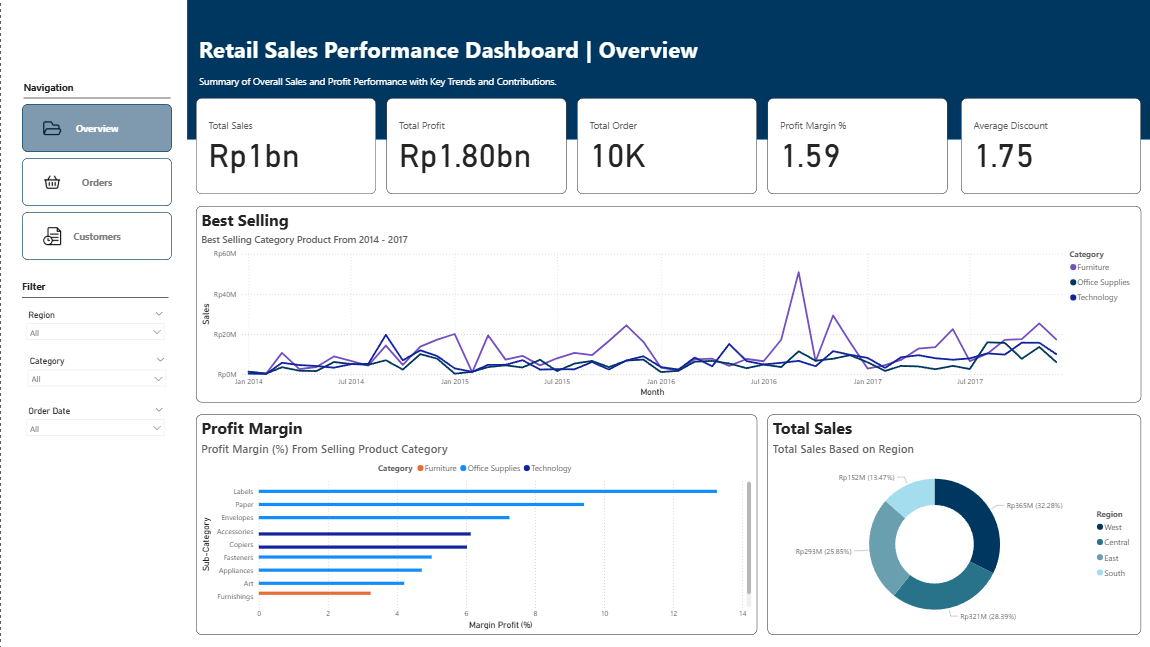

This screenshot's page, from the dashboard's own definition file:
{"tool":"powerbi","page":{"name":"Overview","canvas":[1920,1080],"ordinal":0},"visuals":[{"type":"shape","box":[0,0,310,1080],"z":0},{"type":"textbox","box":[33.3,131.1,100,100],"z":0,"group":"g4"},{"type":"shape","box":[38.3,115,245,100],"z":1000,"group":"g4"},{"type":"group","id":"g1","title":"Group 1","box":[34.4,174.4,250,80],"z":1000},{"type":"image","box":[64.4,194.4,40,40],"z":1000,"group":"g1"},{"type":"actionButton","box":[34.4,264.4,250,80],"z":1000,"group":"g2"},{"type":"actionButton","box":[34.4,354.4,250,80],"z":1000,"group":"g3"},{"type":"group","id":"g2","title":"Group 2","box":[34.4,264.4,250,80],"z":2000},{"type":"actionButton","box":[34.4,174.4,250,80],"z":3000,"group":"g1"},{"type":"image","box":[64.4,284.4,40,40],"z":3000,"group":"g2"},{"type":"group","id":"g3","title":"Group 3","box":[34.4,354.4,250,80],"z":3000},{"type":"image","box":[64.4,374.4,40,40],"z":3002,"group":"g3"},{"type":"slicer","fields":{"Values":["superstore_cleaned.Region"]},"box":[33.3,512.2,250,65.6],"z":4000},{"type":"slicer","fields":{"Values":["superstore_cleaned.Category"]},"box":[34.4,590,250,64.4],"z":5000},{"type":"group","id":"g4","title":"Group 4","box":[33.3,115,250,116.1],"z":6000},{"type":"textbox","box":[31.1,461.7,100,100],"z":6000,"group":"g5"},{"type":"group","id":"g5","title":"Group 5","box":[31.1,447.8,248.9,114.4],"z":7000},{"type":"shape","box":[36.1,447.8,244.4,100],"z":7000,"group":"g5"},{"type":"slicer","fields":{"Values":["superstore_cleaned.Order Date.Variation.Date Hierarchy.Year"]},"box":[33.3,673.3,250,64.4],"z":8000},{"type":"shape","box":[310,0,1610,234.3],"z":9000},{"type":"textbox","box":[326,52,1202,100],"z":10000},{"type":"cardVisual","fields":{"Data":["superstore_cleaned.Total Sales"]},"box":[325,165,300,160],"z":11000},{"type":"cardVisual","fields":{"Data":["superstore_cleaned.Total Profit"]},"box":[642.5,165,300,160],"z":12000},{"type":"cardVisual","fields":{"Data":["superstore_cleaned.Total Order"]},"box":[960,165,300,160],"z":13000},{"type":"cardVisual","fields":{"Data":["superstore_cleaned.Profit Margin %"]},"box":[1277.5,165,300,160],"z":14000},{"type":"cardVisual","fields":{"Data":["superstore_cleaned.Average Discount"]},"box":[1600,165,300,160],"z":15000},{"type":"lineChart","title":"Best Selling","fields":{"Y":["superstore_cleaned.Total Sales"],"Category":["superstore_cleaned.Order Date.Variation.Date Hierarchy.Year","superstore_cleaned.Order Date.Variation.Date Hierarchy.Month"],"Series":["superstore_cleaned.Category"]},"box":[325,345,1575,327.5],"z":16000},{"type":"donutChart","title":"Total Sales","fields":{"Category":["superstore_cleaned.Region"],"Y":["superstore_cleaned.Total Sales"]},"box":[1277.5,692.5,622.5,367.5],"z":17000},{"type":"clusteredBarChart","title":"Profit Margin","fields":{"Y":["superstore_cleaned.Profit Margin %"],"Series":["superstore_cleaned.Category"],"Category":["superstore_cleaned.Sub-Category"]},"box":[325,692.5,935,367.5],"z":18000}]}

Visuals, with their boxes on the page's 1920x1080 design canvas (x1, y1, x2, y2). These are canvas units, not pixel positions in the 1150x647 screenshot, which may show the page scaled, cropped or inside an application window:
shape: <bbox>0, 0, 310, 1080</bbox>
textbox: <bbox>33, 131, 133, 231</bbox>
shape: <bbox>38, 115, 283, 215</bbox>
"Group 1" group: <bbox>34, 174, 284, 254</bbox>
image: <bbox>64, 194, 104, 234</bbox>
actionButton: <bbox>34, 264, 284, 344</bbox>
actionButton: <bbox>34, 354, 284, 434</bbox>
"Group 2" group: <bbox>34, 264, 284, 344</bbox>
actionButton: <bbox>34, 174, 284, 254</bbox>
image: <bbox>64, 284, 104, 324</bbox>
"Group 3" group: <bbox>34, 354, 284, 434</bbox>
image: <bbox>64, 374, 104, 414</bbox>
slicer - superstore_cleaned.Region: <bbox>33, 512, 283, 578</bbox>
slicer - superstore_cleaned.Category: <bbox>34, 590, 284, 654</bbox>
"Group 4" group: <bbox>33, 115, 283, 231</bbox>
textbox: <bbox>31, 462, 131, 562</bbox>
"Group 5" group: <bbox>31, 448, 280, 562</bbox>
shape: <bbox>36, 448, 280, 548</bbox>
slicer - superstore_cleaned.Order Date.Variation.Date Hierarchy.Year: <bbox>33, 673, 283, 738</bbox>
shape: <bbox>310, 0, 1920, 234</bbox>
textbox: <bbox>326, 52, 1528, 152</bbox>
cardVisual - superstore_cleaned.Total Sales: <bbox>325, 165, 625, 325</bbox>
cardVisual - superstore_cleaned.Total Profit: <bbox>642, 165, 942, 325</bbox>
cardVisual - superstore_cleaned.Total Order: <bbox>960, 165, 1260, 325</bbox>
cardVisual - superstore_cleaned.Profit Margin %: <bbox>1278, 165, 1578, 325</bbox>
cardVisual - superstore_cleaned.Average Discount: <bbox>1600, 165, 1900, 325</bbox>
"Best Selling" lineChart: <bbox>325, 345, 1900, 672</bbox>
"Total Sales" donutChart: <bbox>1278, 692, 1900, 1060</bbox>
"Profit Margin" clusteredBarChart: <bbox>325, 692, 1260, 1060</bbox>
